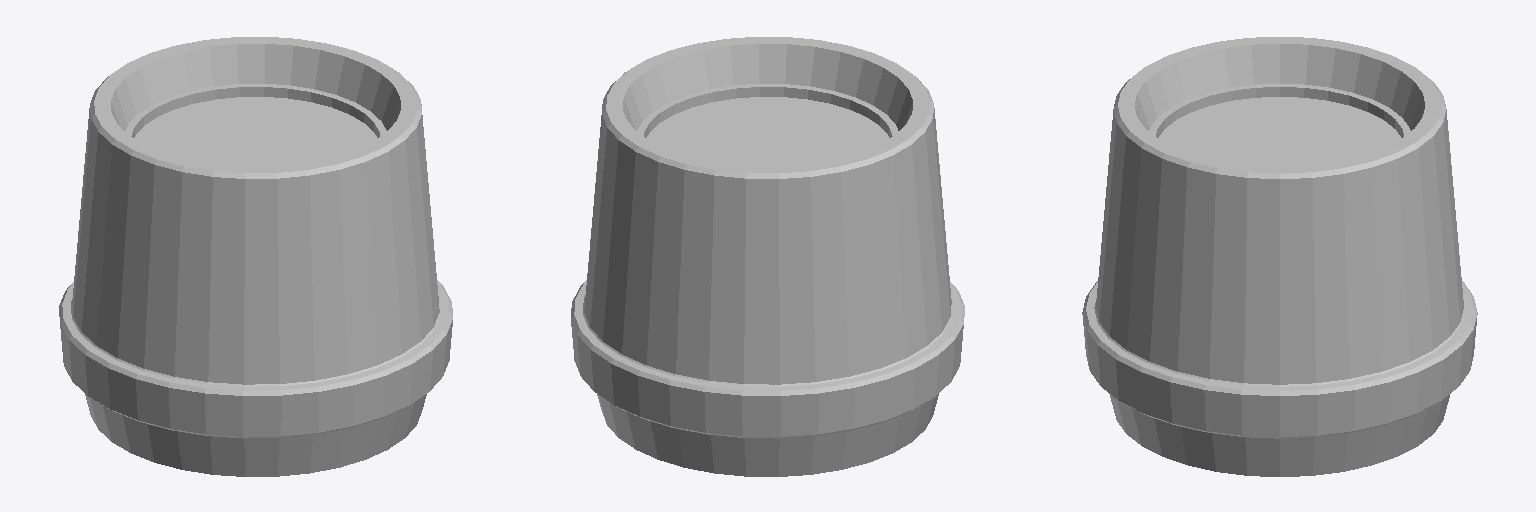
Rendered from TreePlanter.obj.
3 views of the same model, side by side, from view 1: azimuth 30°, elevation 25°; view 2: azimuth 150°, elevation 25°; view 3: azimuth 270°, elevation 25° (orthographic).
Parts seen in each view (by area): view 1: TreePlanter_Cylinder; view 2: TreePlanter_Cylinder; view 3: TreePlanter_Cylinder.
Part boxes in pixels (x1,y1,x2,y2): TreePlanter_Cylinder: (59,37,452,476); TreePlanter_Cylinder: (571,37,964,476); TreePlanter_Cylinder: (1082,37,1477,476).
Bounding box in the file's own units: 0.5935 × 0.5 × 0.5935.